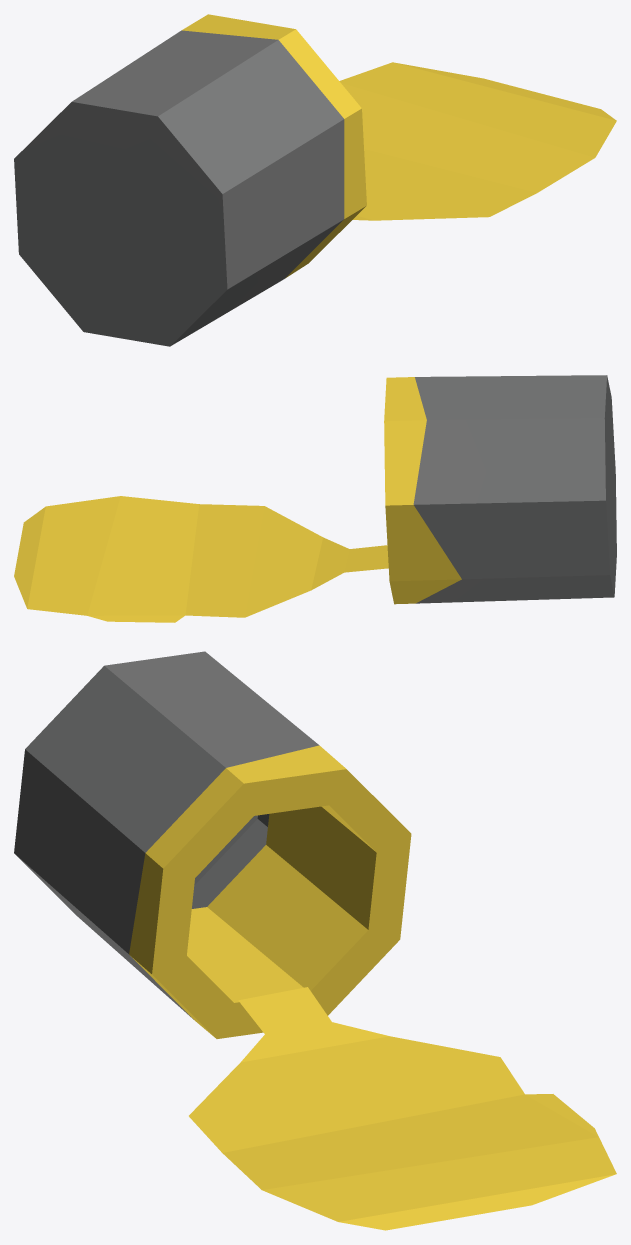
Rendered from thungson1 1.fbx.
3 renders of one model, top to bottom at view 1: azimuth 30°, elevation 25°; view 2: azimuth 150°, elevation 25°; view 3: azimuth 270°, elevation 25°, orthographic. The views are drawn at different scales.
Parts seen in each view (by area): view 1: thungson1; view 2: thungson1; view 3: thungson1.
Boxes of the visible parts, <box> form: thungson1: <box>14,14,616,346</box>; thungson1: <box>14,375,616,622</box>; thungson1: <box>14,651,616,1230</box>.
Bounding box in the file's own units: 164 × 58.89 × 118.
